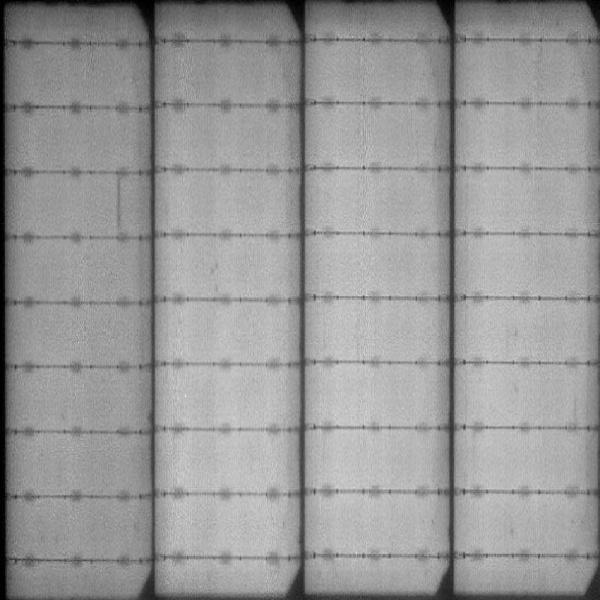scratch: (111, 172, 125, 226)
